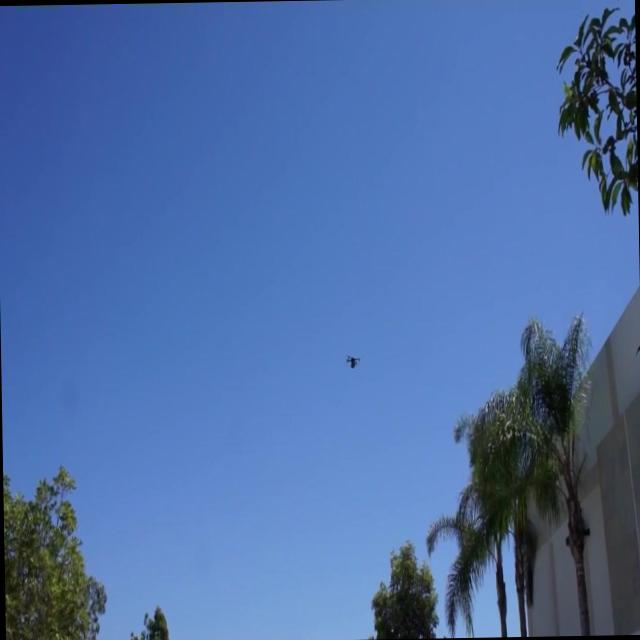drone: (342, 352, 361, 370)
